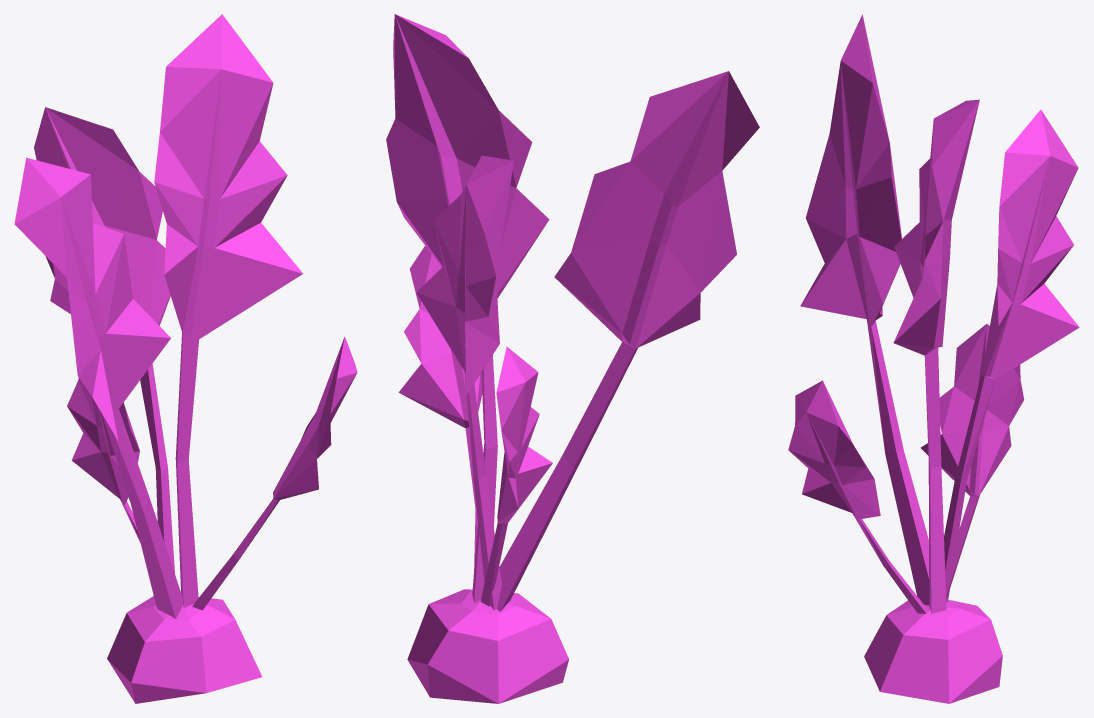
Rendered from SM_Beetroot_Plant_Ripe_A.fbx.
3 views of the same model, side by side, from view 1: azimuth 30°, elevation 25°; view 2: azimuth 150°, elevation 25°; view 3: azimuth 270°, elevation 25° (orthographic). The views are drawn at different scales.
Visible parts, largest first — view 1: SM_Beetroot_Plant_Ripe_A; view 2: SM_Beetroot_Plant_Ripe_A; view 3: SM_Beetroot_Plant_Ripe_A.
Part boxes in pixels (left/top/right/bottom): SM_Beetroot_Plant_Ripe_A: left=14, top=14, right=357, bottom=703; SM_Beetroot_Plant_Ripe_A: left=386, top=14, right=759, bottom=703; SM_Beetroot_Plant_Ripe_A: left=788, top=14, right=1079, bottom=703.
Size of the model in its own units: 0.4217 by 0.7569 by 0.3287.
